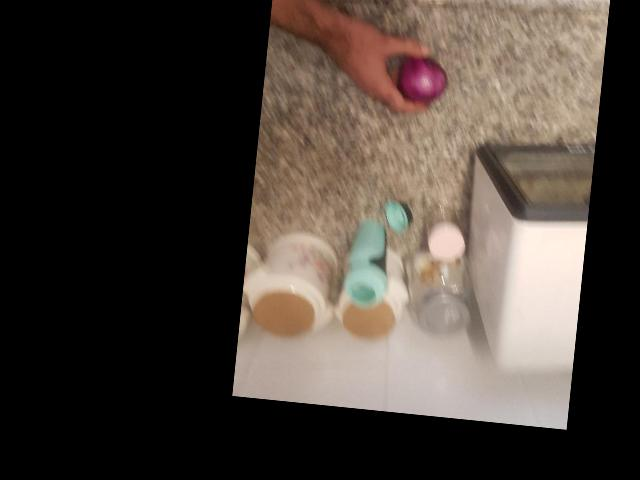onion: (552, 219, 612, 282)
